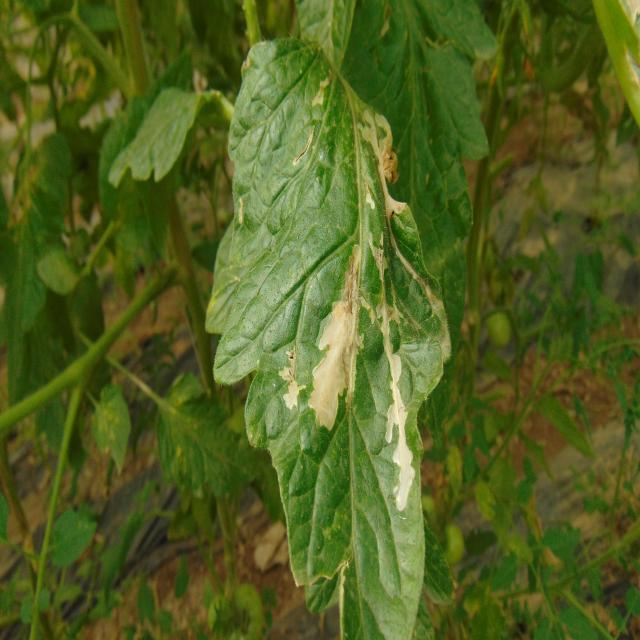Tuta absoluta: (355, 105, 437, 305), (303, 241, 375, 432), (369, 232, 418, 512), (274, 347, 310, 410), (394, 441, 410, 510)
